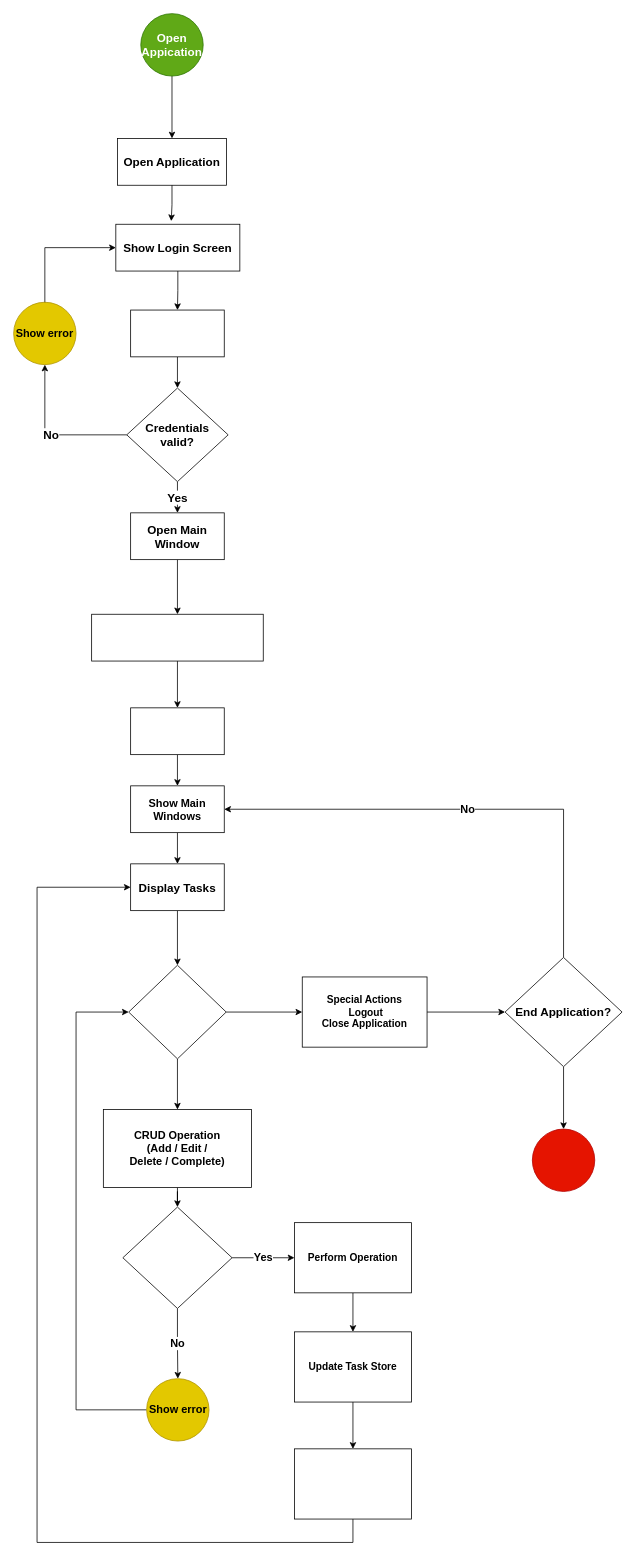
Image size: 636x1562. Some labels were removed from this diagram. The centre of each missing label's shape, as x and y in pixels:
"Add Tasks In Task Store" belongs at (177,731).
"Close Application" belongs at (563,1159).
"Load User Task From Database For Current User" belongs at (177,637).
"Refresh UI / Notify View" belongs at (352,1483).
"User Action?" belongs at (177,1011).
"User Enters Username & Password" belongs at (177,333).
"Validate Input?" belongs at (177,1257).
